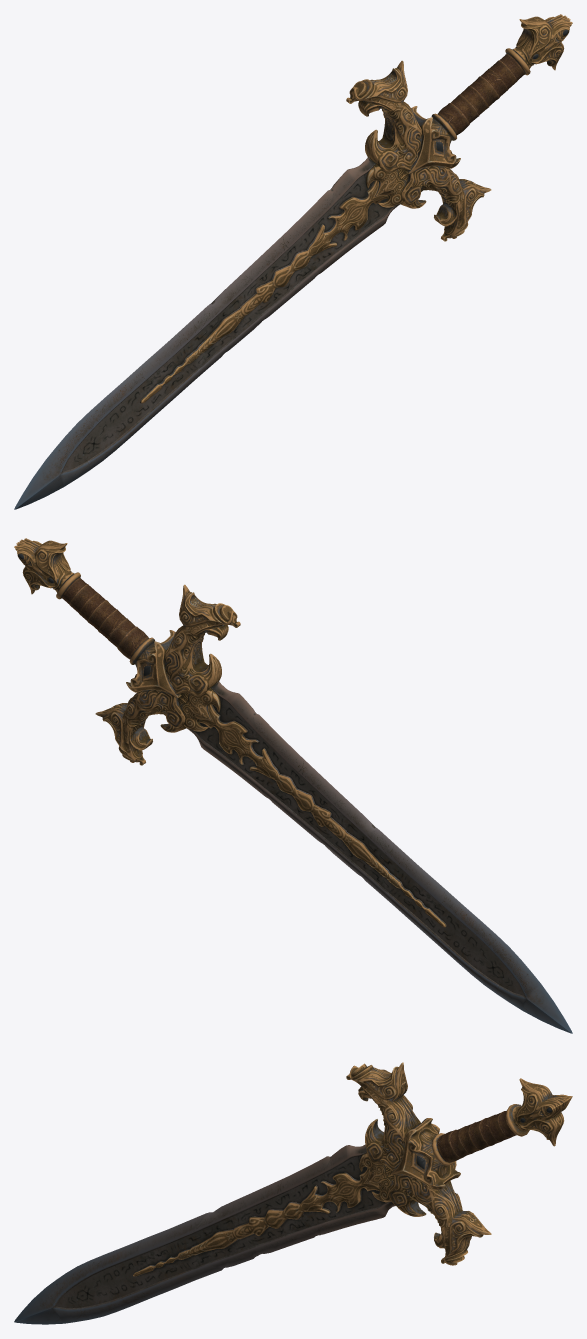
File: another_sword.glb
The picture shows the model from 3 angles, top to bottom: view 1: azimuth 30°, elevation 25°; view 2: azimuth 150°, elevation 25°; view 3: azimuth 330°, elevation 25°; orthographic projection.
Parts seen in each view (by area): view 1: sword_low, guard_low, handle_low, pommel_low; view 2: sword_low, guard_low, handle_low, pommel_low; view 3: sword_low, guard_low, handle_low, pommel_low.
Boxes of the visible parts, x1,y1,x2,y2 form: sword_low: [14, 157, 408, 509]; guard_low: [346, 60, 491, 241]; handle_low: [431, 48, 530, 140]; pommel_low: [512, 14, 572, 70]; sword_low: [178, 681, 572, 1033]; guard_low: [95, 584, 240, 765]; handle_low: [56, 572, 154, 664]; pommel_low: [14, 538, 74, 594]; sword_low: [14, 1145, 395, 1324]; guard_low: [346, 1062, 491, 1265]; handle_low: [431, 1104, 529, 1165]; pommel_low: [512, 1078, 572, 1146].
Bounding box in the file's own units: 1.02 × 0.6424 × 0.0816.
1 material, 1 textured.
